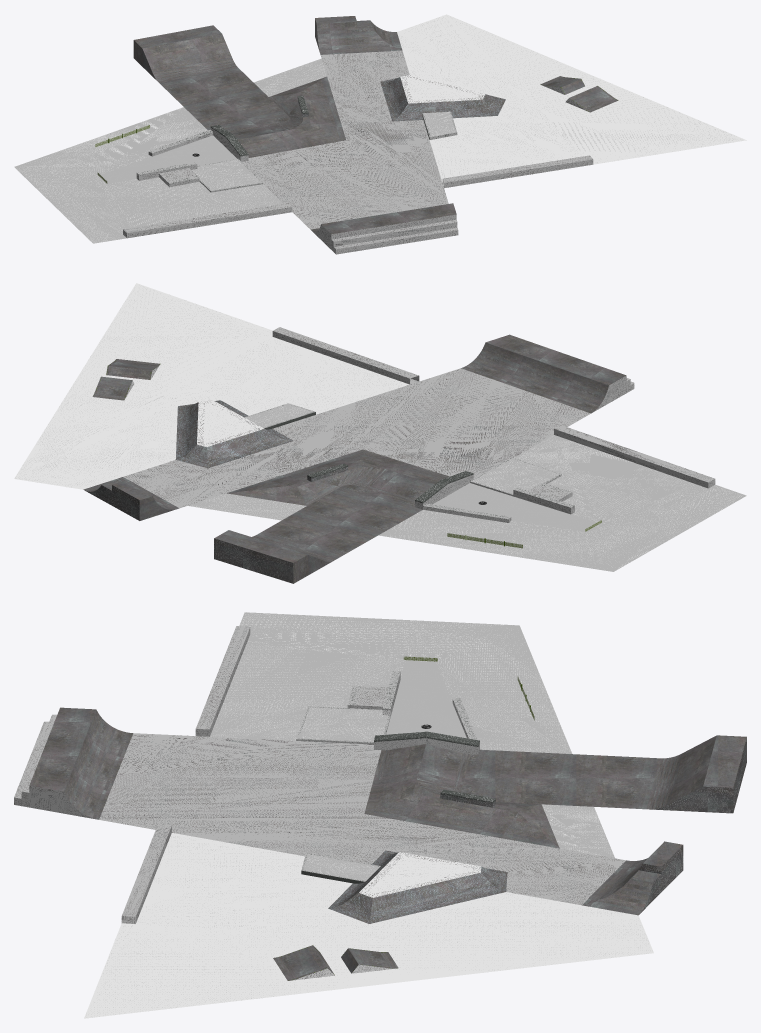
The model's file is Kristinehamn_Park_only.dae.
3 renders of one model, top to bottom at view 1: azimuth 30°, elevation 25°; view 2: azimuth 150°, elevation 25°; view 3: azimuth 270°, elevation 25°, orthographic. The views are drawn at different scales.
Parts seen in each view (by area): view 1: group_0 (×15), group_4 (×2); view 2: group_0 (×17), group_4 (×2); view 3: group_0 (×18), group_4 (×2).
Part boxes in pixels (box(x1,y1,x2,y2)): group_0 (×15): box(14, 14, 746, 254); group_4 (×2): box(541, 76, 617, 111); group_0 (×17): box(14, 283, 746, 583); group_4 (×2): box(94, 359, 158, 400); group_0 (×18): box(14, 612, 746, 1018); group_4 (×2): box(273, 946, 397, 980).
Bounding box in the file's own units: 1870 × 1425 × 59.84.
